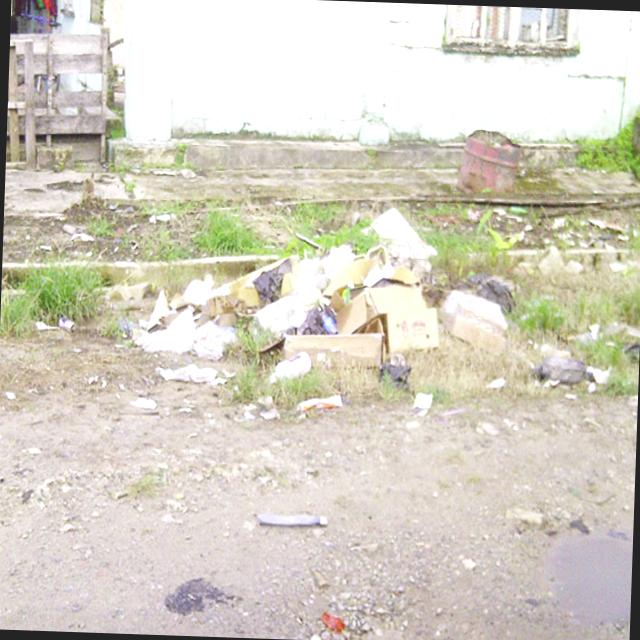garbage: (134, 204, 607, 421)
